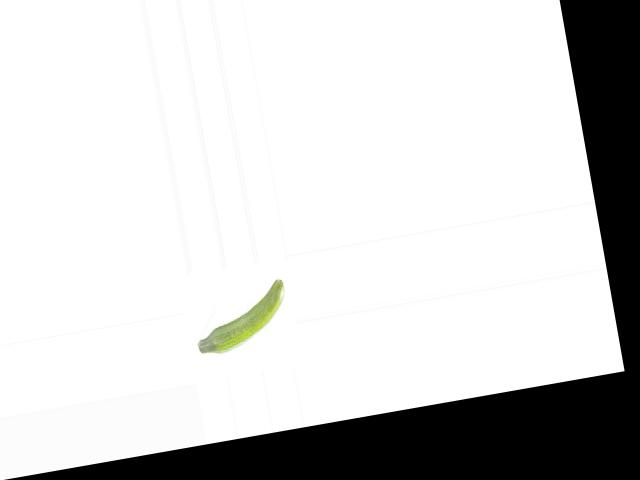cucumber: (187, 277, 293, 357)
